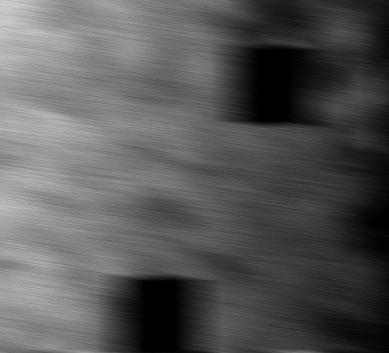Airbag: (0, 0, 389, 352), (377, 0, 389, 353), (0, 351, 389, 353)
